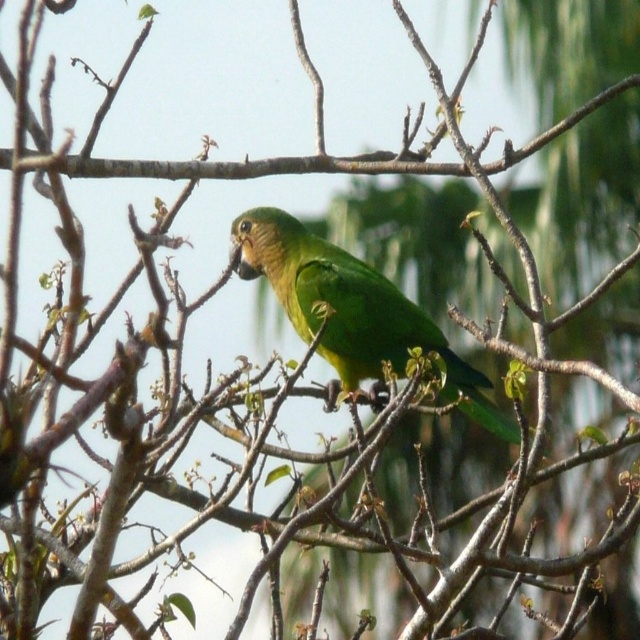Parrot: (225, 201, 541, 445)
